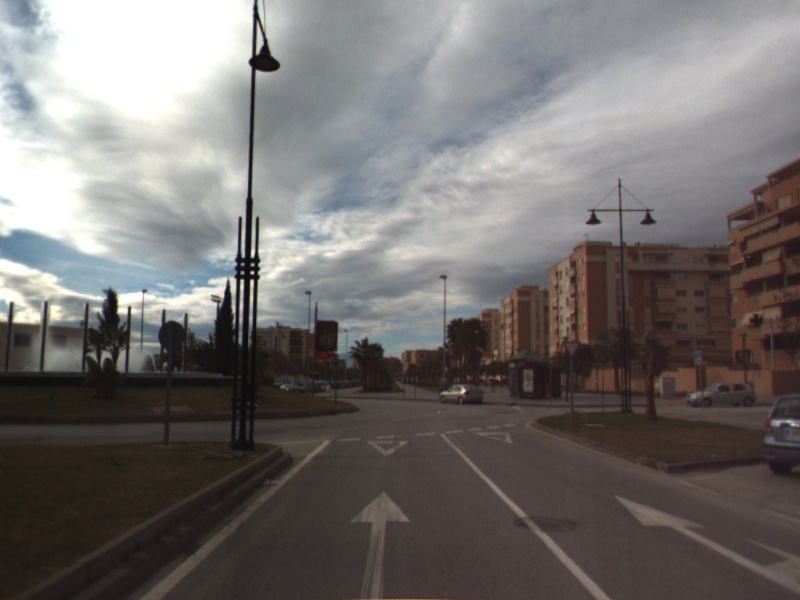STRAIGHT: (347, 488, 413, 600)
STRAIGHT_RIGHT: (610, 491, 800, 596)
